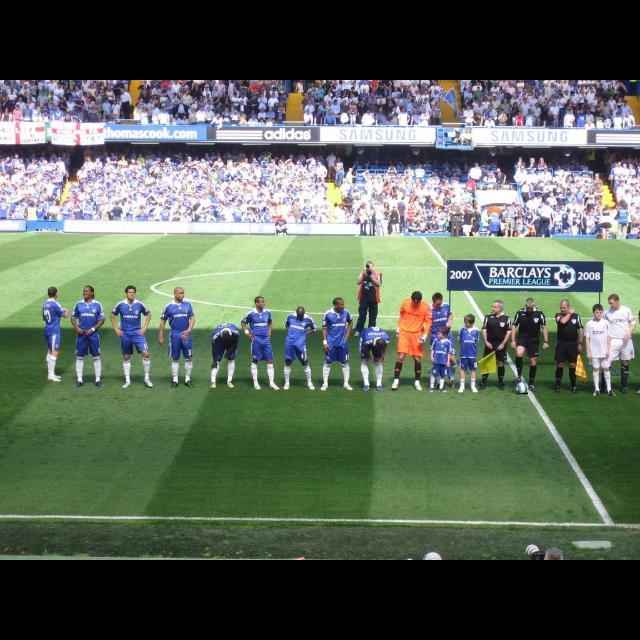Football: (514, 378, 528, 394)
